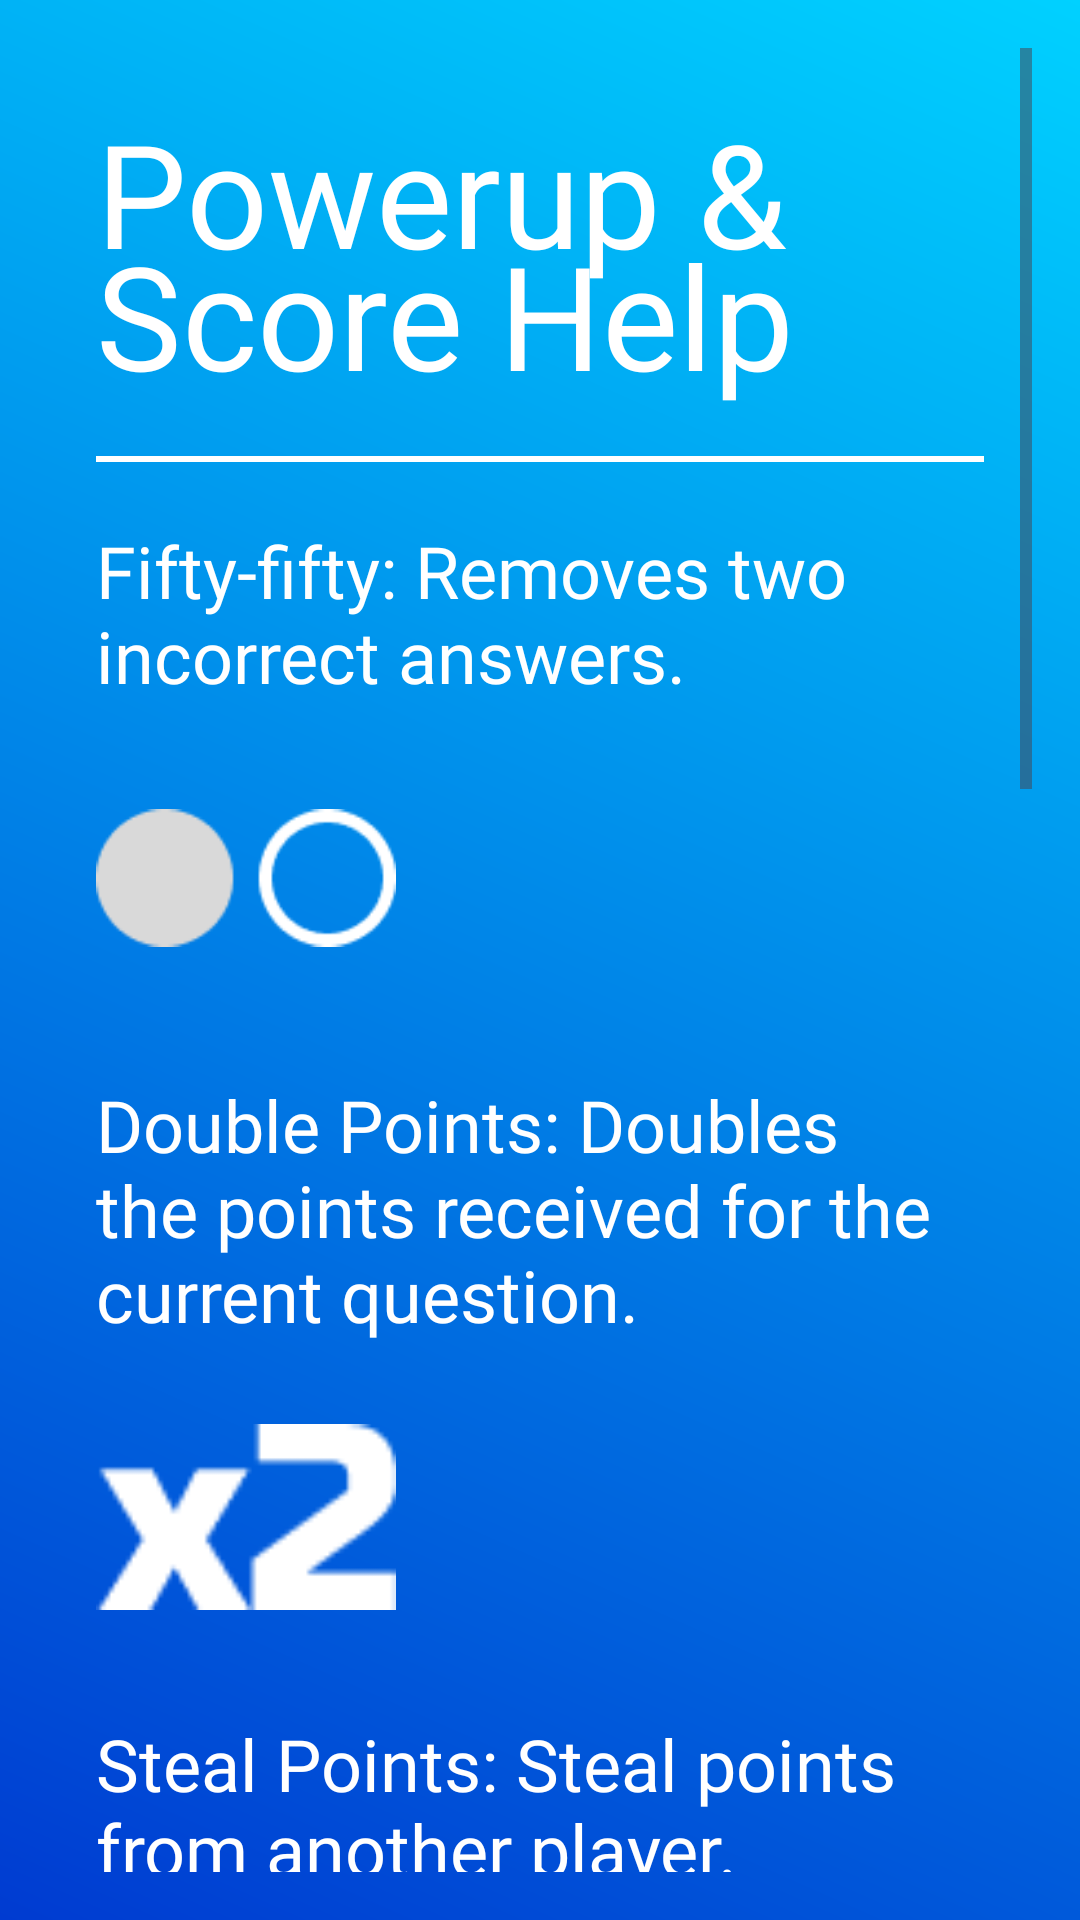

Named icons in this screenshot (1080 x 1920) and their bounding boxes, {"left": x1, "top": y1, "right": x2, "bottom": y2}:
Description for Double Points feature: {"left": 96, "top": 1424, "right": 396, "bottom": 1610}
Description for Fifty-fifty feature: {"left": 96, "top": 809, "right": 396, "bottom": 947}
